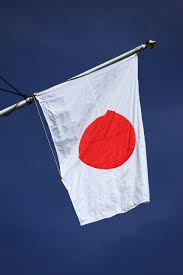Japanese Flag: (33, 53, 154, 227)
